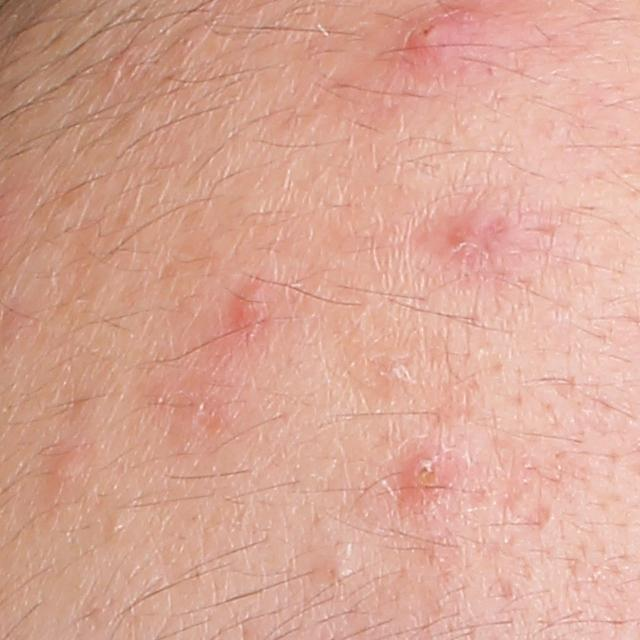atrophic_scar: (475, 446, 534, 523), (526, 503, 554, 532)
comedo: (368, 357, 410, 388), (108, 516, 125, 535)
papule: (435, 222, 490, 270), (230, 278, 274, 334), (401, 16, 462, 56), (406, 454, 453, 498), (50, 449, 86, 491)
